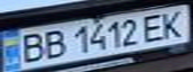1: (69, 22, 90, 55), (103, 18, 124, 50)
2: (118, 16, 145, 47)
4: (87, 20, 109, 52)
B: (12, 30, 51, 65), (36, 27, 69, 61)
E: (136, 11, 172, 43)
K: (157, 7, 193, 39)
